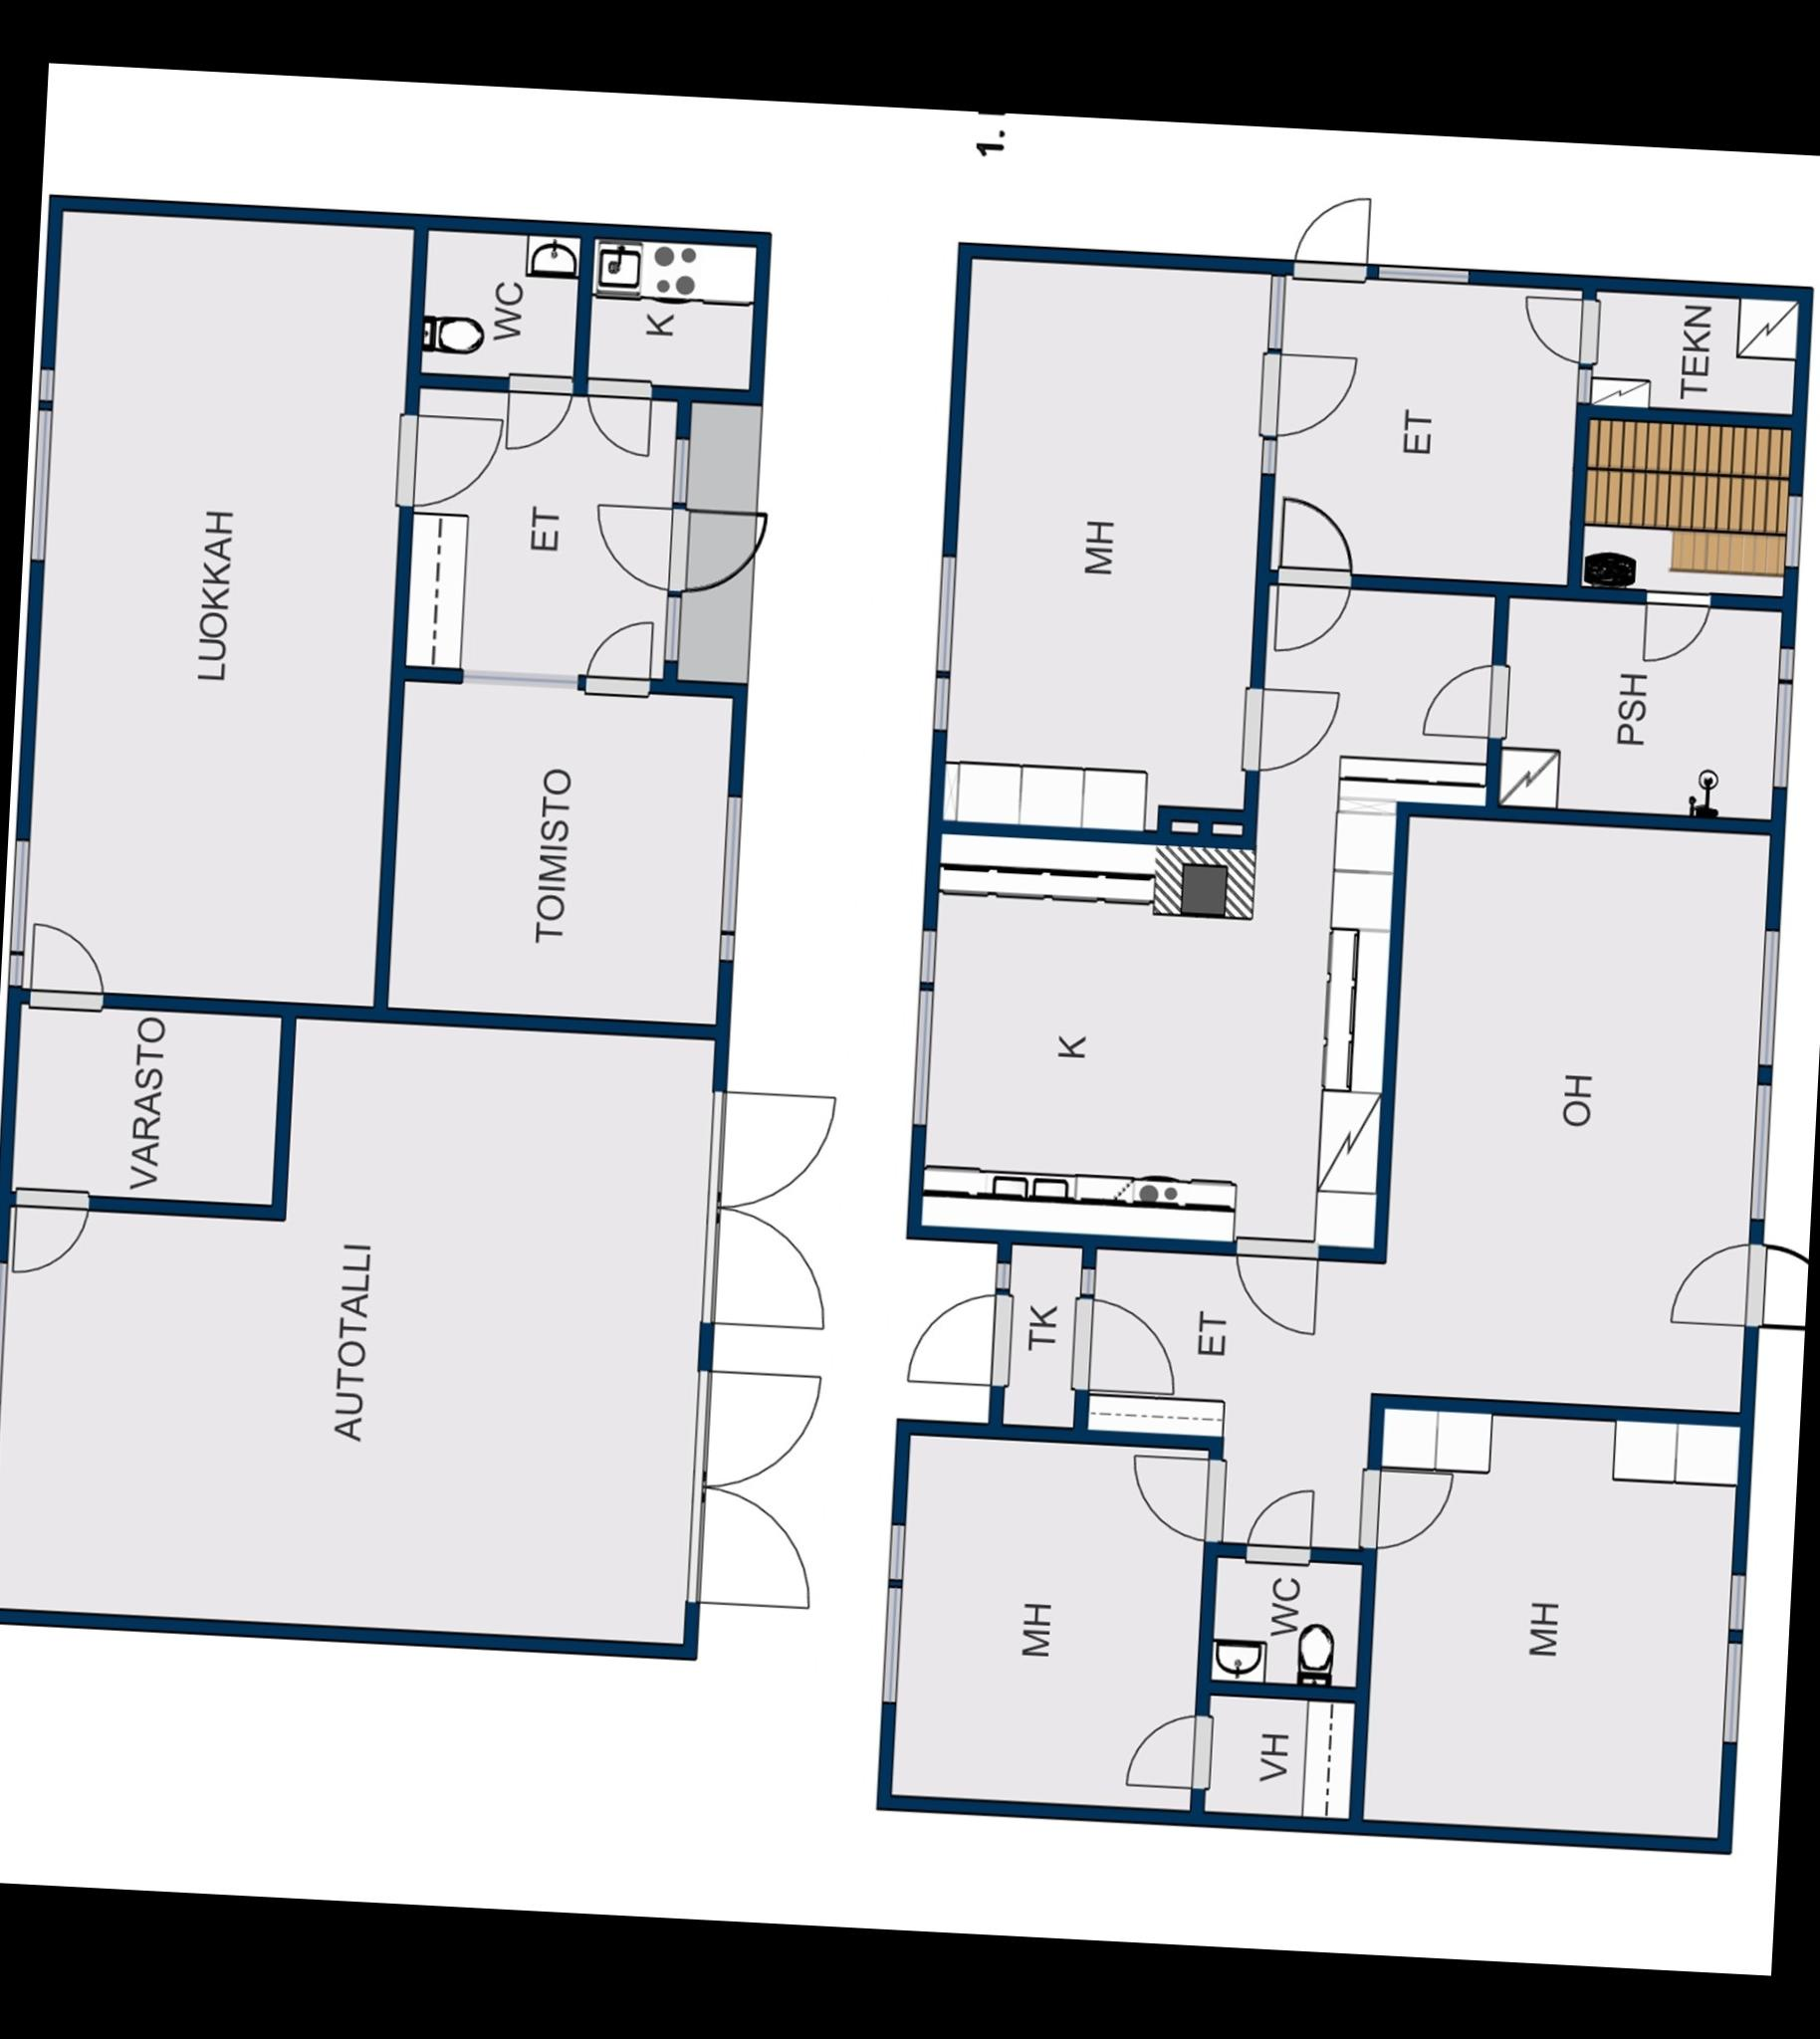door: (694, 1077, 845, 1221), (673, 1475, 817, 1621), (671, 1359, 822, 1496), (696, 1196, 836, 1342), (901, 1275, 1026, 1391), (379, 404, 506, 518), (1054, 1294, 1175, 1409), (652, 501, 771, 604), (1114, 1445, 1226, 1553), (1110, 1698, 1219, 1807), (1349, 1454, 1456, 1565), (587, 492, 696, 599), (1657, 1238, 1774, 1337), (1217, 1238, 1323, 1347), (1228, 676, 1340, 778), (1251, 342, 1356, 446), (0, 1177, 93, 1289), (23, 904, 114, 1019), (1284, 193, 1386, 295), (1409, 653, 1513, 750), (1260, 564, 1363, 657), (569, 609, 666, 708), (1625, 580, 1723, 673), (1732, 1228, 1811, 1342), (1272, 485, 1360, 585), (1240, 1484, 1328, 1572), (1521, 285, 1602, 379), (587, 364, 659, 464), (502, 376, 581, 446)
window: (1743, 901, 1792, 1087), (1739, 1054, 1785, 1233), (921, 541, 971, 685), (703, 790, 750, 936), (23, 397, 60, 571), (866, 1574, 908, 1721), (1711, 1628, 1760, 1754), (446, 657, 587, 701), (903, 980, 936, 1140), (2, 820, 39, 961), (1766, 669, 1804, 796), (1358, 251, 1477, 292), (1773, 474, 1809, 592), (1251, 260, 1293, 358), (1720, 1561, 1764, 1646), (652, 587, 687, 676), (662, 430, 701, 511), (873, 1503, 908, 1589), (910, 917, 949, 991), (1764, 618, 1801, 685), (0, 1249, 12, 1410), (0, 940, 32, 998), (929, 671, 956, 739), (32, 348, 58, 413), (704, 924, 738, 971), (1258, 427, 1288, 479), (0, 1394, 9, 1445)
